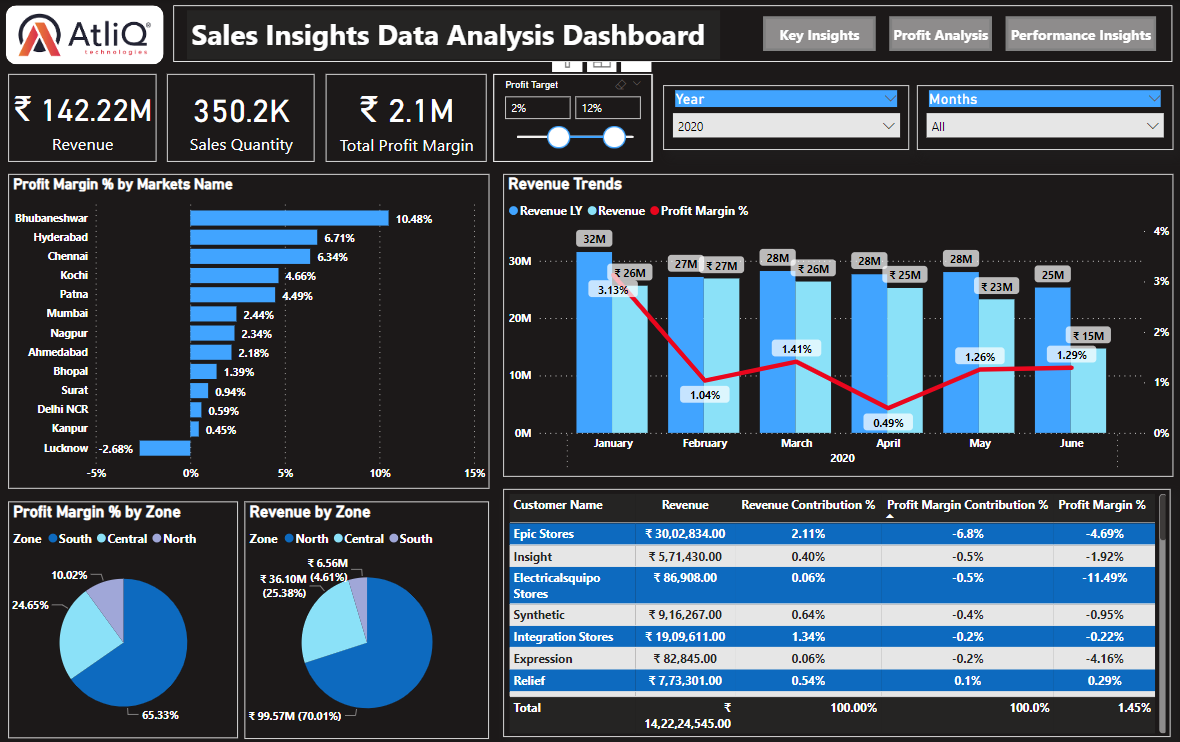

The page's visual inventory and layout, read from the dashboard file:
{"tool":"powerbi","page":{"name":"Performance insights","canvas":[1350,850],"ordinal":2},"visuals":[{"type":"card","fields":{"Values":["keymeasure.Revenue"]},"box":[12.6,85.7,168.6,99.8],"z":0},{"type":"card","fields":{"Values":["keymeasure.sales quntity"]},"box":[193.3,85,168.3,100],"z":1000},{"type":"slicer","fields":{"Values":["sales date.year"]},"box":[758.3,98.3,280,73.3],"z":2000},{"type":"slicer","fields":{"Values":["sales date.cy_date"]},"box":[1048.3,98.3,291.7,73.3],"z":3000},{"type":"card","fields":{"Values":["keymeasure.Total Profit Margin"]},"box":[375,85,183.3,100],"z":4000},{"type":"barChart","title":"Profit Margin % by Markets Name","fields":{"Y":["keymeasure.Profit Margin %"],"Category":["sales markets.markets_name","sales customers.custmer_name","sales products.product_code"]},"box":[12.6,199.5,547.9,358.3],"z":5000},{"type":"lineClusteredColumnComboChart","title":"Revenue Trends","fields":{"Category":["sales date.cy_date.Variation.Date Hierarchy.Year","sales date.cy_date.Variation.Date Hierarchy.Month"],"Y":["keymeasure.Revenue LY","keymeasure.Revenue"],"Y2":["keymeasure.Profit Margin %"]},"box":[576.7,200,763.3,345],"z":6000},{"type":"slicer","fields":{"Values":["Profit Target1.Profit Target"]},"box":[565,85,181.7,100],"z":7000},{"type":"pieChart","title":"Profit Margin % by Zone","fields":{"Y":["keymeasure.Profit Margin %"],"Category":["sales markets.zone"]},"box":[12.6,571.8,261.3,269.8],"z":8000},{"type":"pieChart","title":"Revenue by Zone","fields":{"Category":["sales markets.zone"],"Y":["keymeasure.Revenue"]},"box":[282,572,278,270],"z":9000},{"type":"tableEx","fields":{"Values":["sales customers.custmer_name","keymeasure.Revenue","keymeasure.Revenue Contribution %","keymeasure.Profit Margin Contribution %","keymeasure.Profit Margin %"]},"box":[576,557.8,760.1,282.4],"z":10000},{"type":"shape","box":[200.9,7,1138,64.6],"z":11000},{"type":"actionButton","box":[1149.3,19.7,171.4,39.3],"z":12000},{"type":"actionButton","box":[1017.2,19.7,116.6,39.3],"z":13000},{"type":"actionButton","box":[872.5,19.7,127.9,39.3],"z":14000},{"type":"shape","box":[9.8,7,179.8,67.4],"z":15000},{"type":"image","box":[14,7,171.4,67.4],"z":16000},{"type":"textbox","box":[216.4,12.6,606.9,56.2],"z":17000}]}

Visuals, with their boxes in screenshot pixels (x1, y1, x2, y2), scaled from the page's 1350x850 canvas onto the 1180x742 screenshot:
card - keymeasure.Revenue: Rect(11, 75, 158, 162)
card - keymeasure.sales quntity: Rect(169, 74, 316, 161)
slicer - sales date.year: Rect(663, 86, 908, 150)
slicer - sales date.cy_date: Rect(916, 86, 1171, 150)
card - keymeasure.Total Profit Margin: Rect(328, 74, 488, 161)
"Profit Margin % by Markets Name" barChart: Rect(11, 174, 490, 487)
"Revenue Trends" lineClusteredColumnComboChart: Rect(504, 175, 1171, 476)
slicer - Profit Target1.Profit Target: Rect(494, 74, 653, 161)
"Profit Margin % by Zone" pieChart: Rect(11, 499, 239, 735)
"Revenue by Zone" pieChart: Rect(246, 499, 489, 735)
tableEx - sales customers.custmer_name x keymeasure.Revenue: Rect(503, 487, 1168, 733)
shape: Rect(176, 6, 1170, 63)
actionButton: Rect(1005, 17, 1154, 52)
actionButton: Rect(889, 17, 991, 52)
actionButton: Rect(763, 17, 874, 52)
shape: Rect(9, 6, 166, 65)
image: Rect(12, 6, 162, 65)
textbox: Rect(189, 11, 720, 60)
